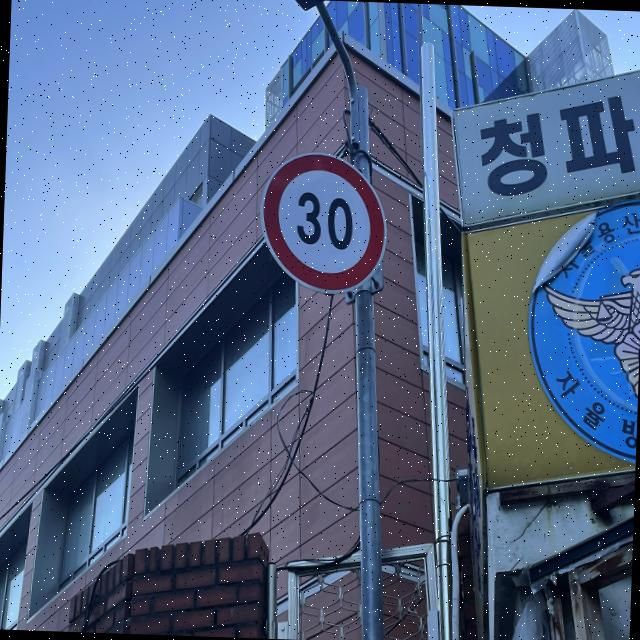Ograniczenie predkosci do 30: (256, 150, 389, 294)
